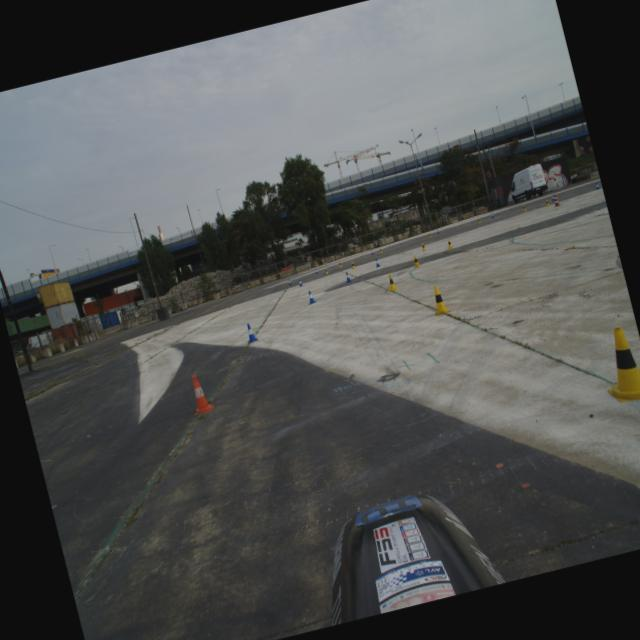blue_cone: (244, 322, 258, 342), (305, 289, 316, 304), (343, 270, 352, 282), (374, 257, 381, 267), (298, 278, 304, 286), (594, 182, 600, 190), (287, 278, 292, 286), (550, 194, 554, 201), (314, 268, 318, 274), (436, 228, 440, 234), (490, 212, 494, 218), (370, 250, 374, 254)
large_orange_cone: (552, 192, 560, 206)
orange_cone: (184, 372, 215, 416)
yellow_cone: (593, 322, 640, 407), (426, 283, 451, 316), (385, 272, 398, 292), (411, 254, 421, 268), (446, 238, 454, 249), (419, 242, 426, 251), (350, 260, 356, 268), (544, 198, 550, 206), (521, 204, 527, 211), (476, 216, 481, 224), (338, 260, 342, 268), (324, 267, 328, 274), (378, 248, 382, 254), (427, 232, 431, 238)
